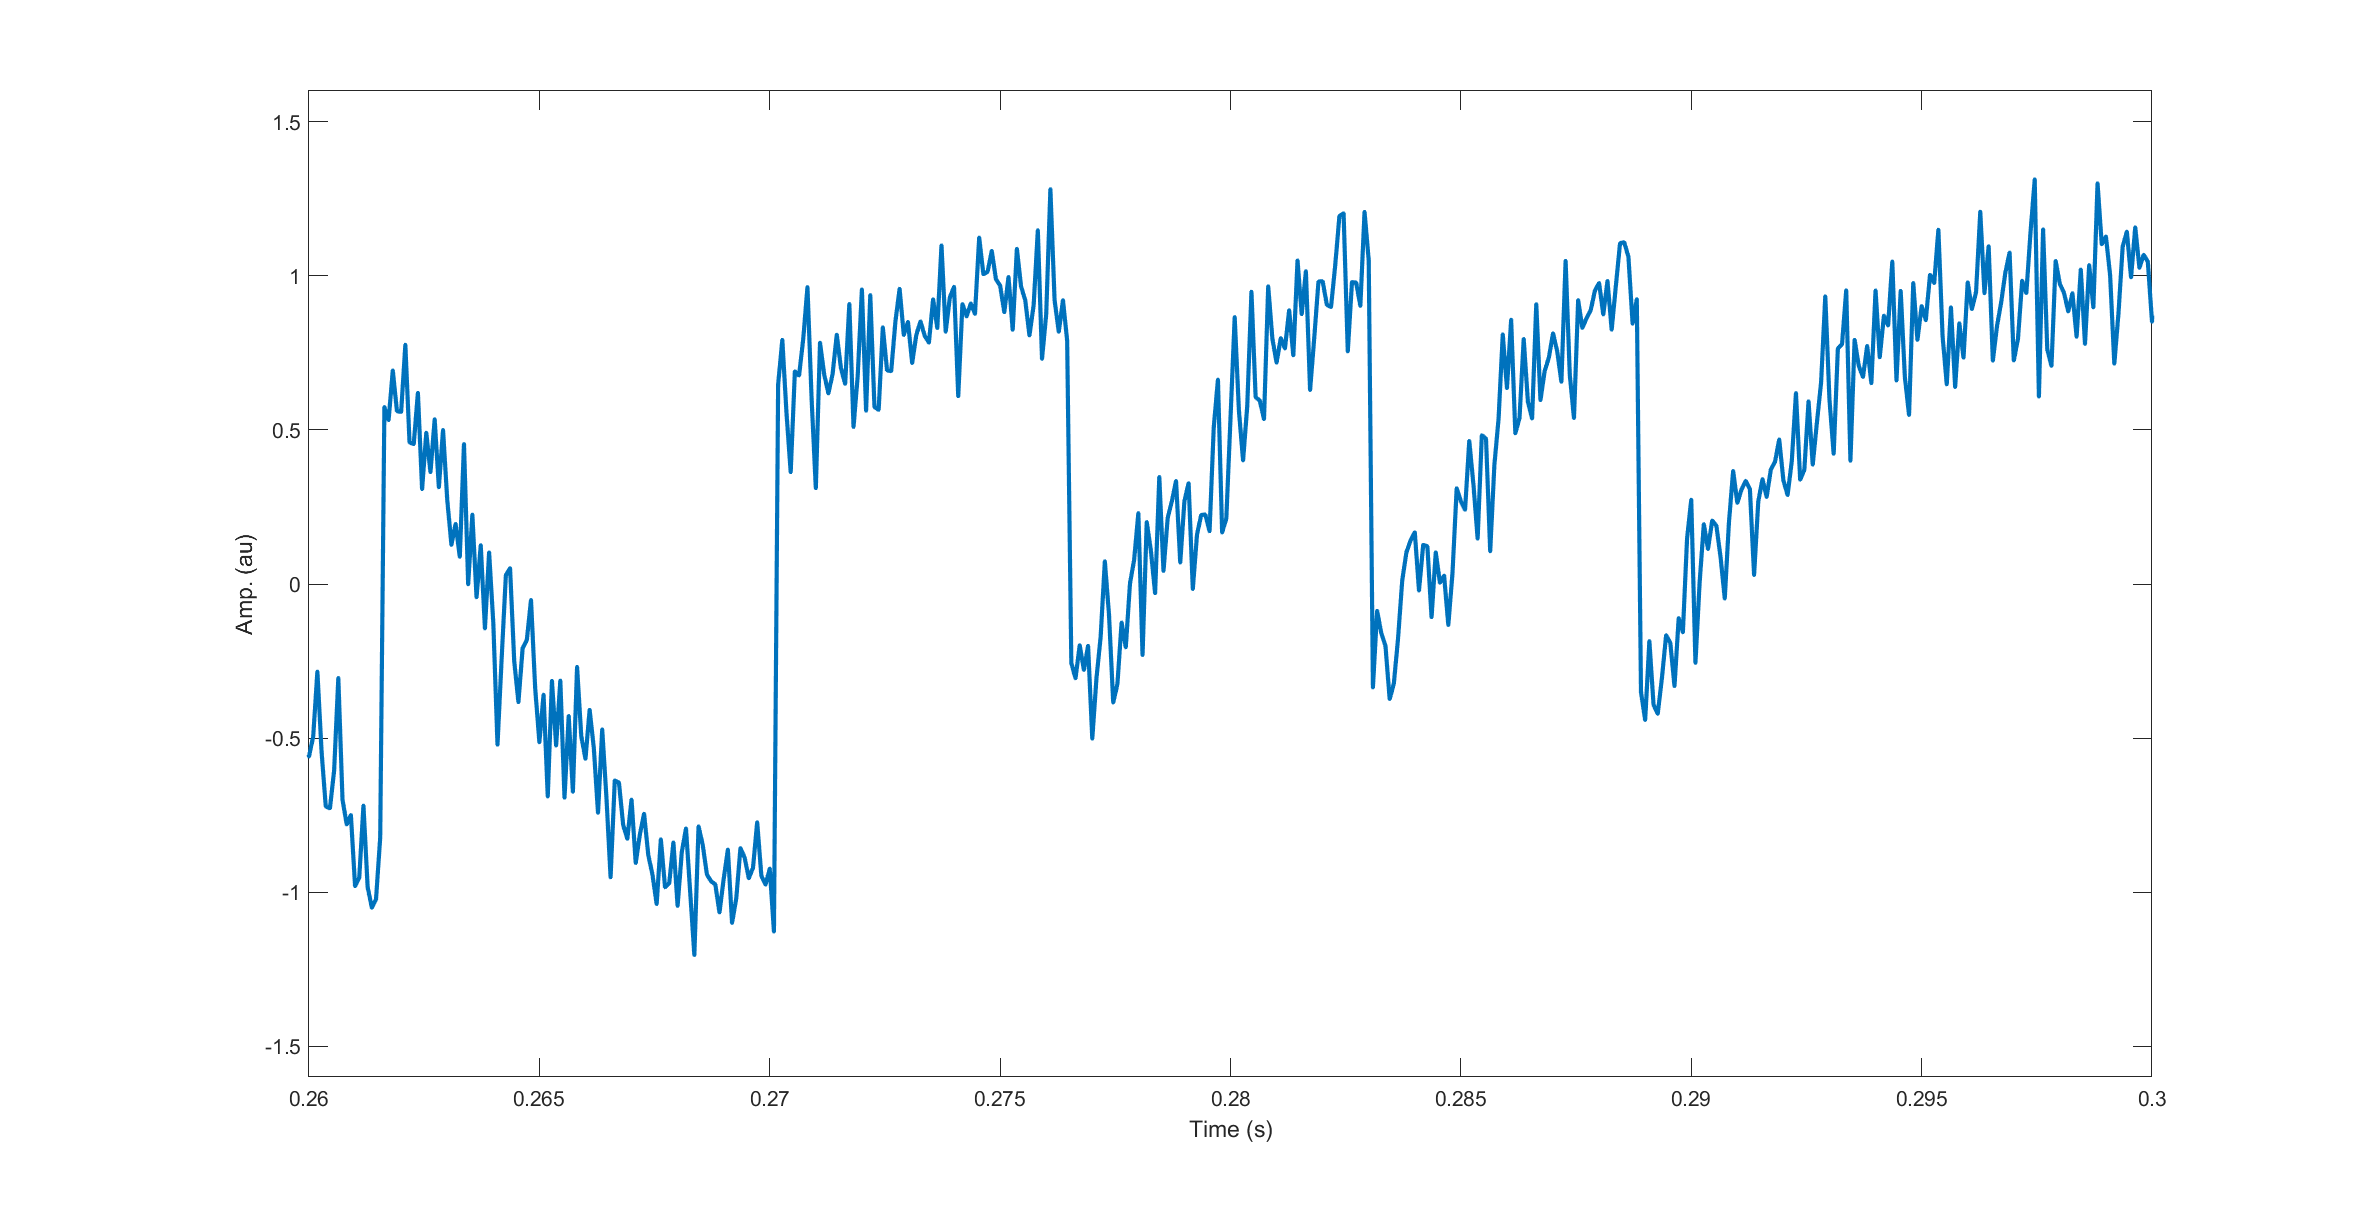negative_fringe: (370, 332, 670, 880)
positive_fringe: (1100, 187, 1384, 721), (1409, 221, 1654, 722)
